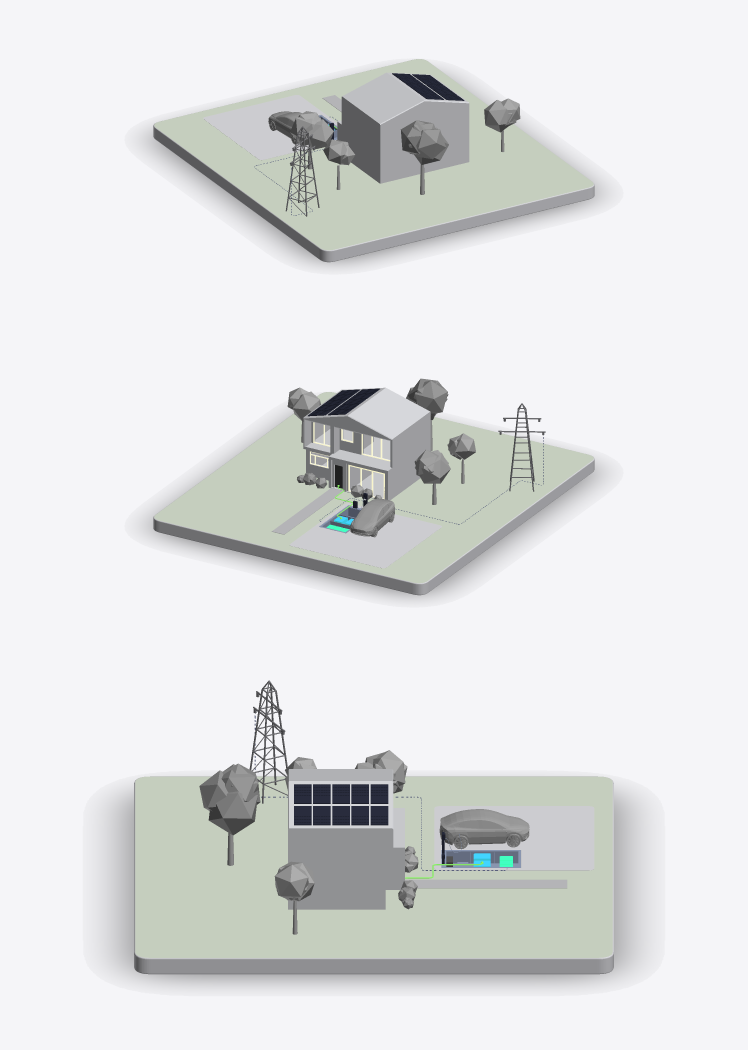
Rendered from sett-scroll-onafhankelijk.glb.
3 views of the same model, one above another, from view 1: azimuth 30°, elevation 25°; view 2: azimuth 150°, elevation 25°; view 3: azimuth 270°, elevation 25° (orthographic). The views are drawn at different scales.
Visible parts, largest first — view 1: object 93, Muren_boven, contact_shadow, object 94, Muren_beneden, object 77, object 70, car, object 75, object 63; view 2: object 93, Muren_boven, contact_shadow, object 94, Muren_beneden, car, Pathway, object 75, object 61, object 70; view 3: object 93, contact_shadow, Muren_boven, object 94, Muren_beneden, car, Pathway, object 76, object 71, BAK_met_RIBS, object 78, object 77 (+1 smaller).
Part boxes in pixels (x1,y1,x2,y2): object 93: [153, 59, 594, 262]; Muren_boven: [341, 72, 469, 152]; contact_shadow: [148, 80, 599, 264]; object 94: [203, 95, 337, 160]; Muren_beneden: [337, 120, 469, 183]; object 77: [416, 128, 445, 159]; object 70: [484, 100, 513, 132]; car: [268, 111, 301, 144]; object 75: [400, 120, 425, 154]; object 63: [307, 119, 333, 149]; object 93: [153, 392, 594, 595]; Muren_boven: [303, 387, 430, 467]; contact_shadow: [148, 413, 599, 597]; object 94: [290, 503, 441, 568]; Muren_beneden: [303, 429, 430, 500]; car: [350, 499, 394, 537]; Pathway: [272, 488, 342, 534]; object 75: [413, 380, 447, 413]; object 61: [415, 452, 450, 483]; object 70: [293, 391, 320, 421]; object 93: [134, 776, 613, 974]; contact_shadow: [113, 793, 634, 983]; Muren_boven: [288, 769, 393, 867]; object 94: [434, 806, 594, 870]; Muren_beneden: [288, 808, 404, 909]; car: [439, 809, 529, 848]; Pathway: [405, 879, 567, 888]; object 76: [208, 791, 257, 835]; object 71: [274, 864, 308, 898]; BAK_met_RIBS: [441, 850, 520, 867]; object 78: [221, 764, 260, 804]; object 77: [199, 770, 228, 811].
Size of the model in its own units: 3693 by 734 by 3693.
Materials: 30 (1 with a texture image).
